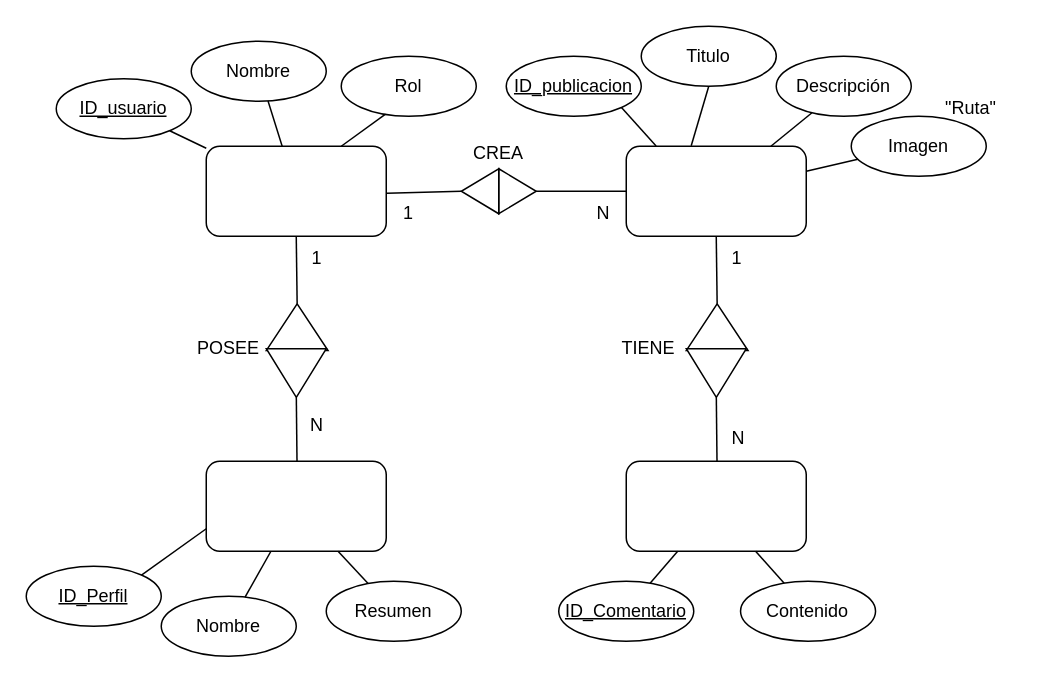
The diagram is 1043 pixels wide and 683 high, and some of its shapes have lost their labels. Here are the shapes that lost their labels. From the top down, the centre of each, then its label:
At point 295,190: "USUARIO".
At point 715,190: "PUBLICACION".
At point 295,505: "PERFIL".
At point 715,505: "COMENTARIO".
